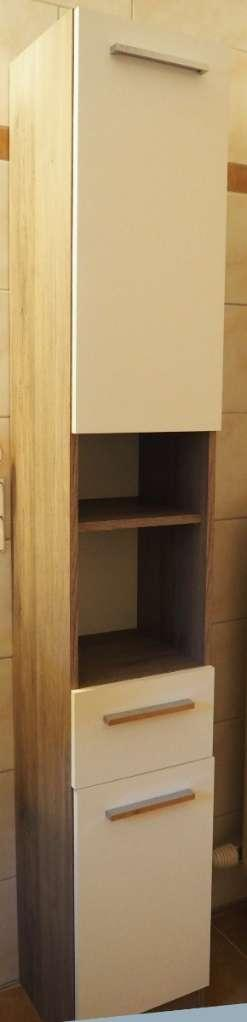cabinet_door: (79, 7, 227, 435), (76, 785, 210, 1019), (77, 678, 212, 780)
handle: (103, 30, 215, 88), (100, 783, 202, 825), (95, 693, 198, 732)
